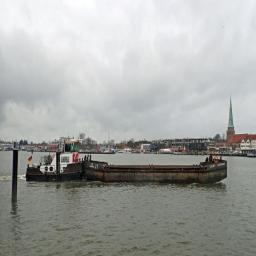tugboat: (25, 135, 94, 190)
